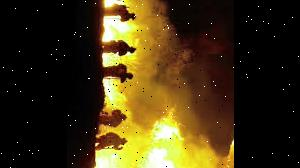fire: (89, 119, 212, 168), (100, 20, 138, 40), (102, 80, 126, 108)
